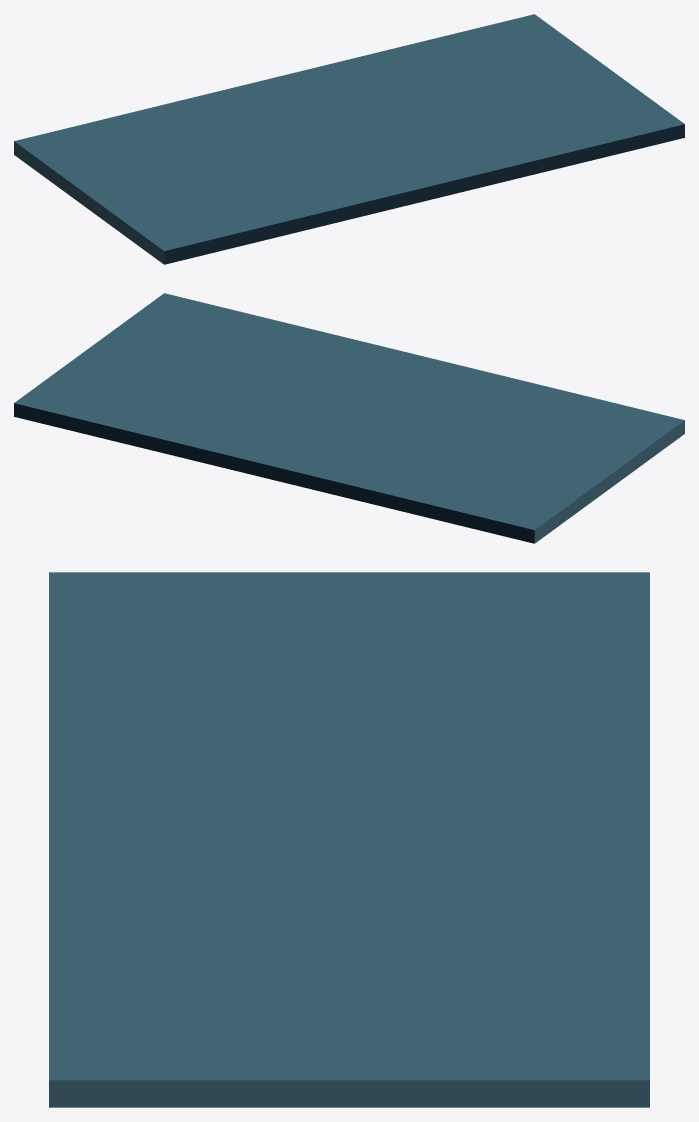
The model's file is cubo_5.FBX.
3 renders of one model, top to bottom at view 1: azimuth 30°, elevation 25°; view 2: azimuth 150°, elevation 25°; view 3: azimuth 270°, elevation 25°, orthographic. The views are drawn at different scales.
Parts seen in each view (by area): view 1: Box001; view 2: Box001; view 3: Box001.
Boxes of the visible parts, <box> form: Box001: <box>14,14,684,264</box>; Box001: <box>14,293,684,543</box>; Box001: <box>49,572,649,1107</box>.
Size of the model in its own units: 10 by 0.25 by 5.
